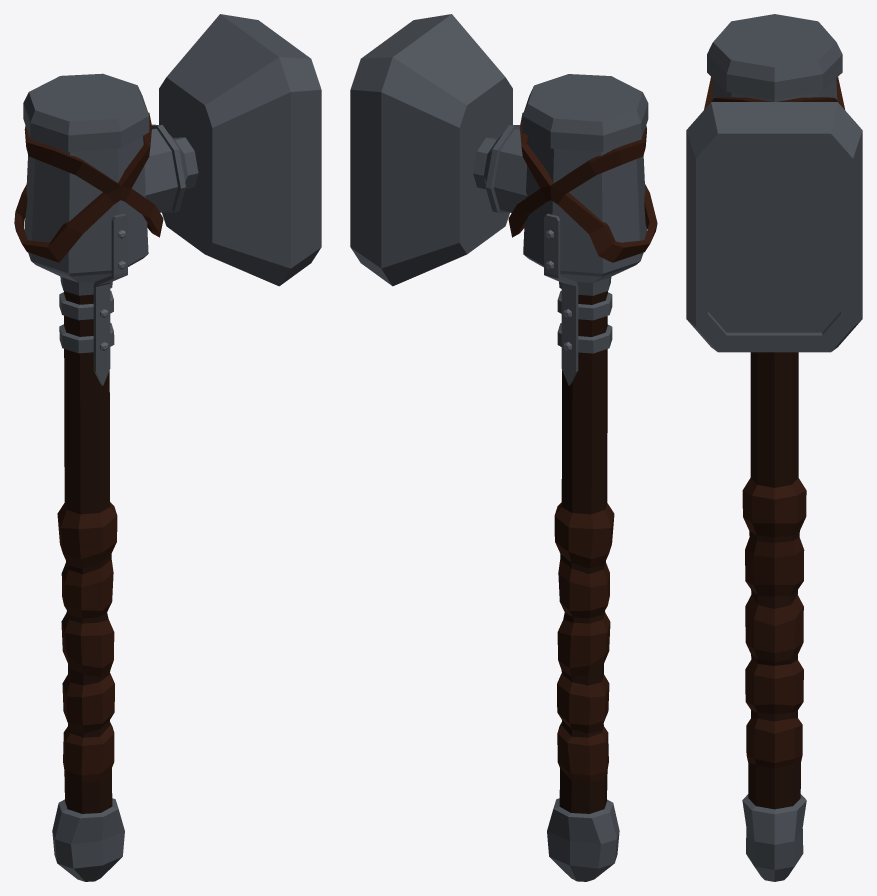
The model's file is Hammer_Small.obj.
The picture shows the model from 3 angles, left to right: view 1: azimuth 30°, elevation 25°; view 2: azimuth 150°, elevation 25°; view 3: azimuth 270°, elevation 25°; orthographic projection. The views are drawn at different scales.
Parts seen in each view (by area): view 1: Hammer_small_Cylinder.013; view 2: Hammer_small_Cylinder.013; view 3: Hammer_small_Cylinder.013.
Part boxes in pixels (x1=…): Hammer_small_Cylinder.013: x1=14, y1=14, x2=321, y2=881; Hammer_small_Cylinder.013: x1=350, y1=14, x2=657, y2=881; Hammer_small_Cylinder.013: x1=686, y1=14, x2=862, y2=881.
Bounding box in the file's own units: 1.49 × 4.33 × 0.8057.
